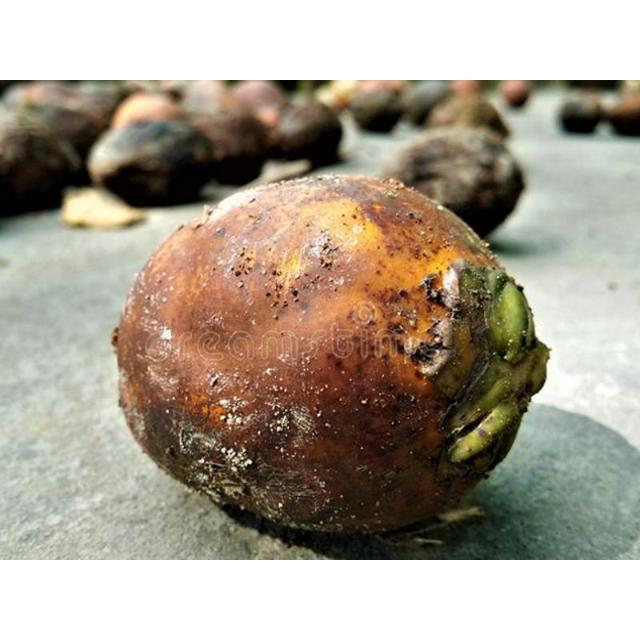damaged: (111, 175, 551, 540)
